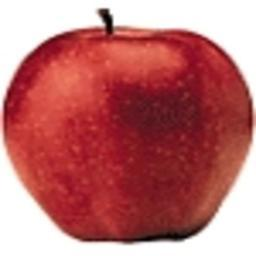apple: (1, 28, 253, 242)
